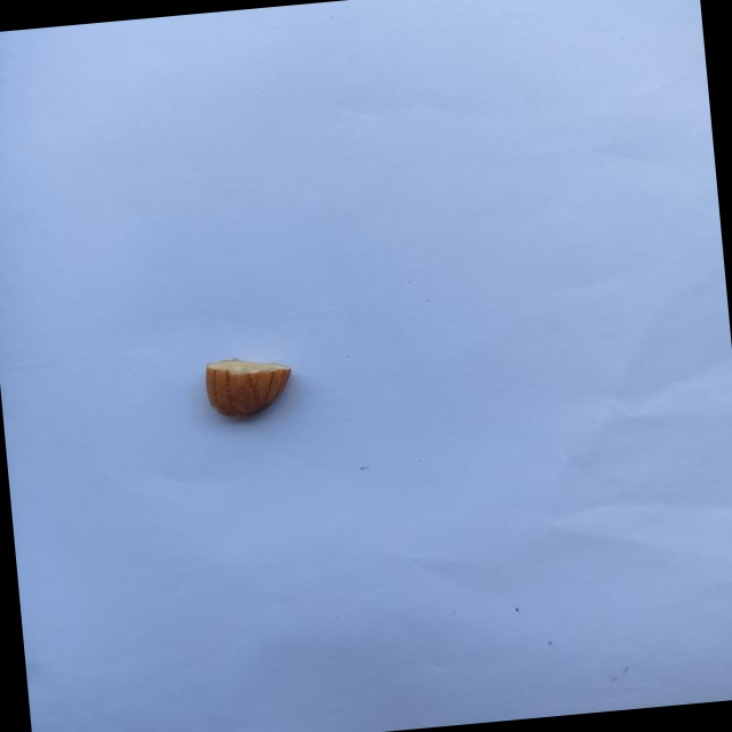grade4: (195, 348, 305, 429)
